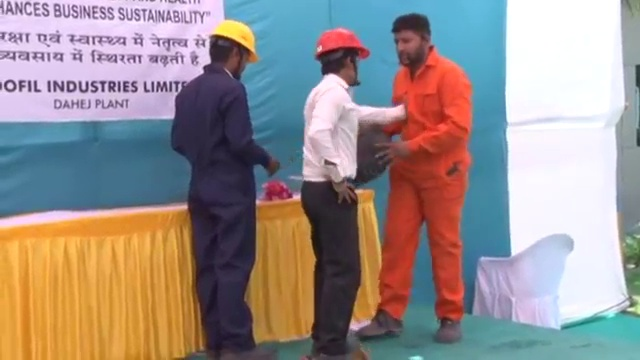helmet: (207, 16, 259, 61), (312, 26, 373, 60)
helmet_off: (392, 12, 431, 68)
helmet_on: (310, 25, 373, 87), (206, 16, 260, 82)
person: (298, 22, 407, 360), (172, 15, 278, 360), (362, 13, 471, 345)
